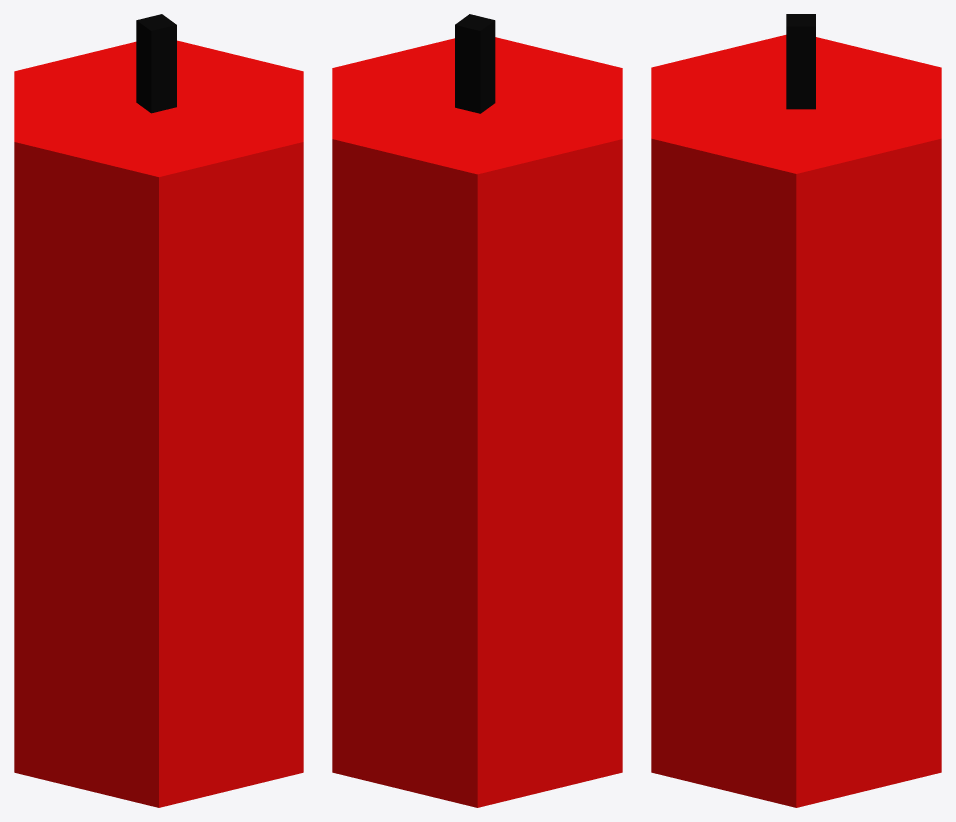
Rendered from kynttila4_red.FBX.
The picture shows the model from 3 angles, left to right: view 1: azimuth 30°, elevation 25°; view 2: azimuth 150°, elevation 25°; view 3: azimuth 270°, elevation 25°; orthographic projection.
Visible parts, largest first — view 1: Kynttila4_red; view 2: Kynttila4_red; view 3: Kynttila4_red.
Boxes of the visible parts, box(x1,y1,x2,y2) form: Kynttila4_red: box(14, 14, 303, 807); Kynttila4_red: box(332, 14, 622, 807); Kynttila4_red: box(651, 14, 941, 807).
Bounding box in the file's own units: 27.11 × 63.9 × 23.48.
